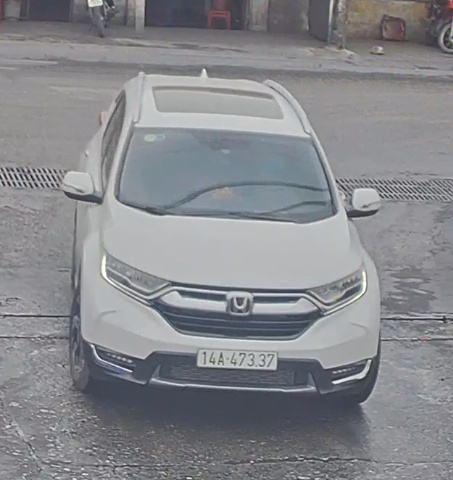vehicle plate: (192, 342, 287, 375)
